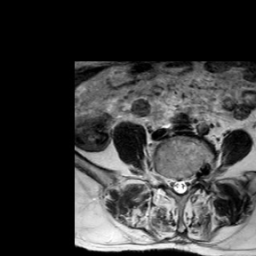CCS_stenosis: (176, 171, 183, 199)
LFS_normal: (189, 165, 196, 190)
LLS_normal: (183, 171, 189, 195)
RFS_normal: (162, 167, 170, 194)
RLS_normal: (170, 169, 176, 198)
